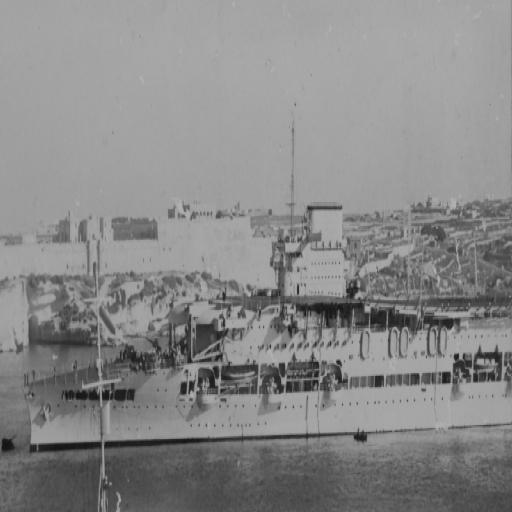Portanaves: (19, 179, 512, 456)
